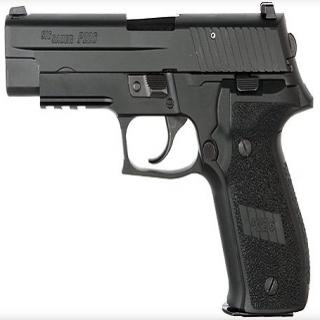gun: (0, 0, 312, 309)
